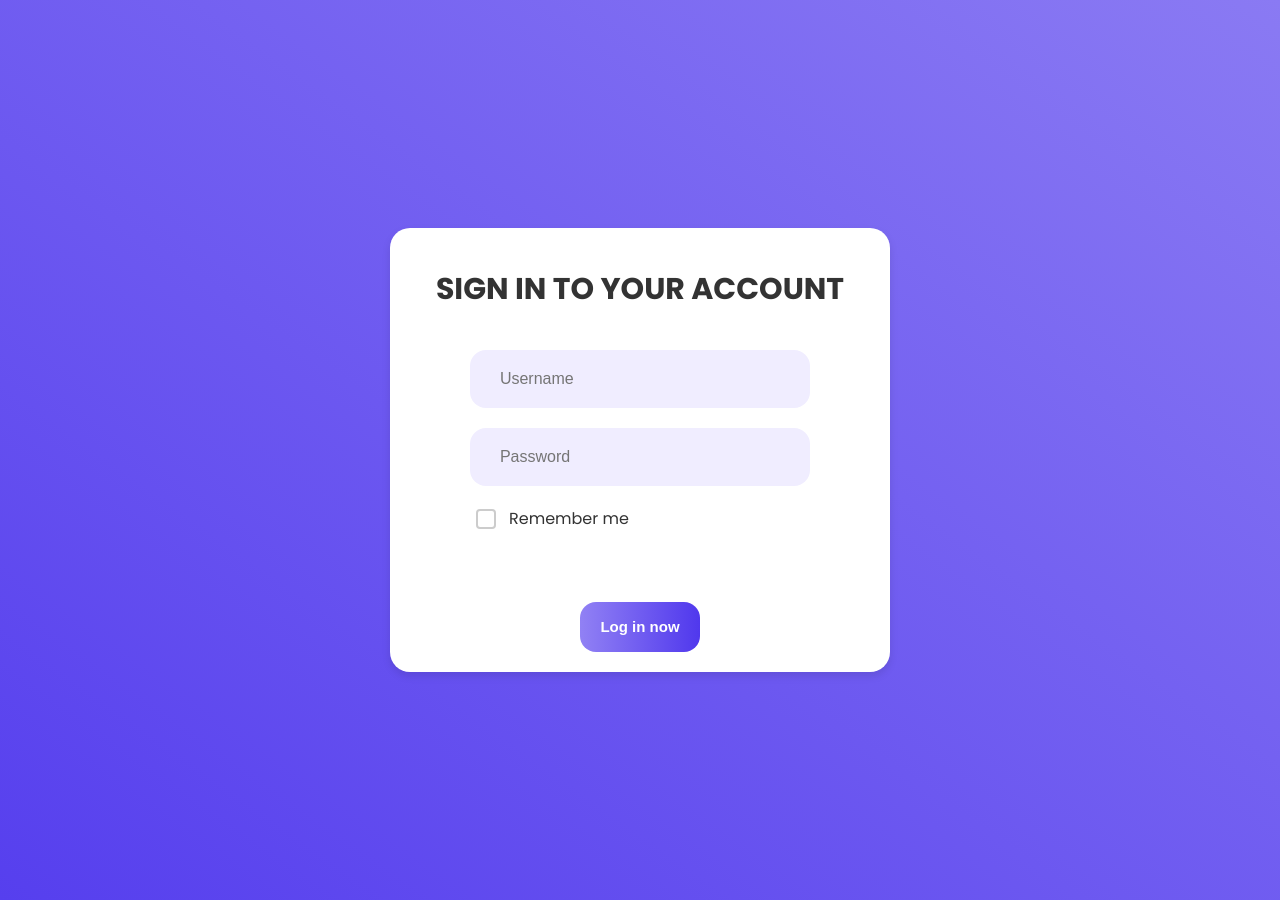
LoginForm › displays validation errors when fields are empty
Click the button "Log in now". click: [640, 627]
box: [580,602,700,652]
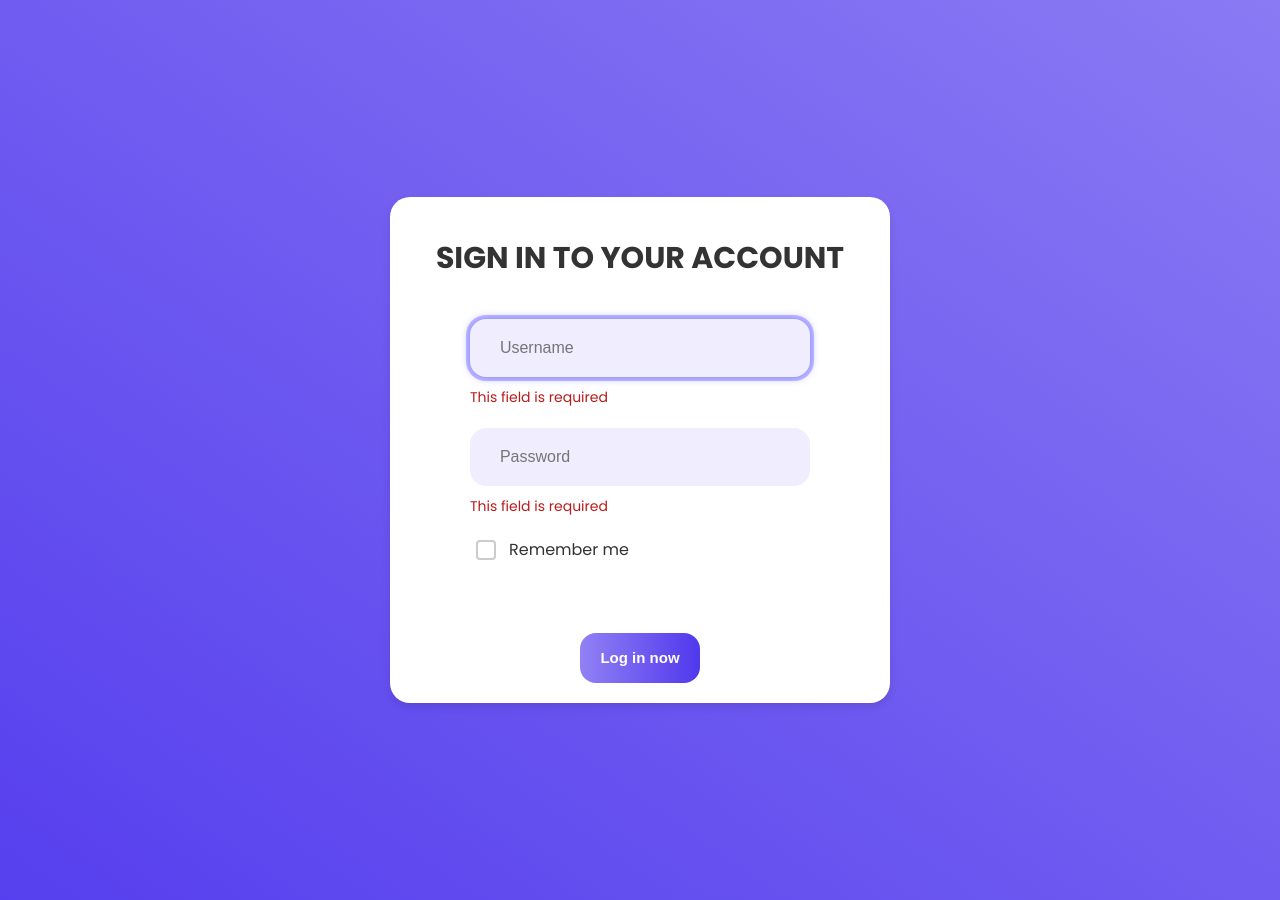
Check: the text "This field is required" is shown 2 times, box [470,387,608,407]; [470,496,608,516]
